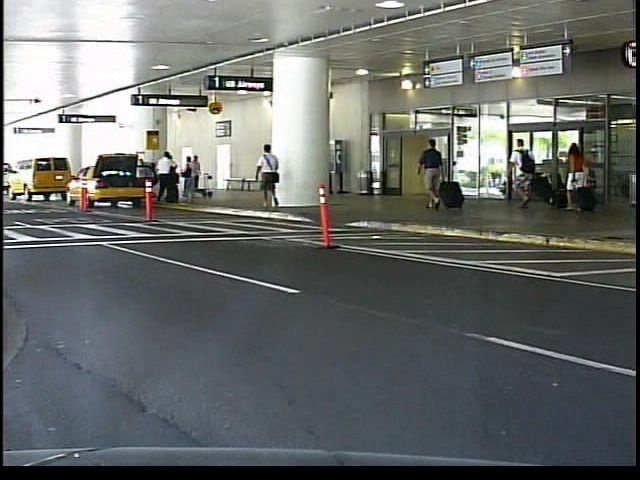person: (506, 134, 543, 214), (564, 133, 596, 220), (415, 137, 449, 212), (254, 141, 286, 215)
